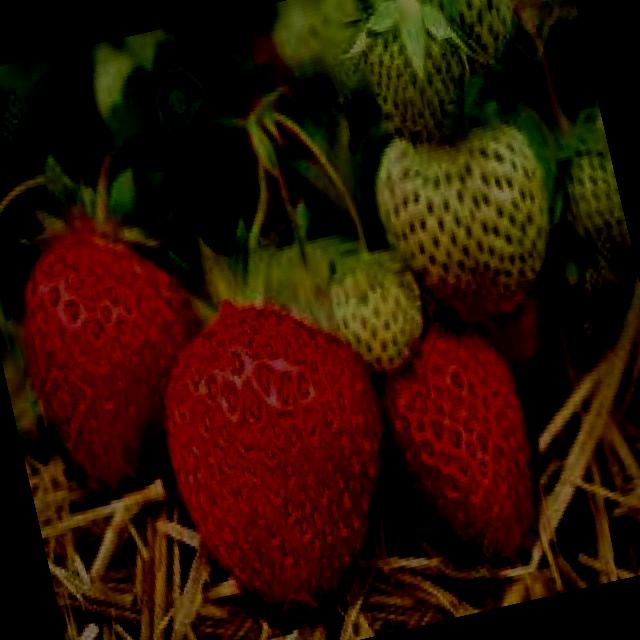Strawberry: (142, 280, 420, 630), (5, 214, 232, 500), (362, 315, 557, 581), (364, 108, 574, 336), (360, 1, 478, 144), (322, 243, 436, 384), (546, 106, 634, 268), (400, 0, 527, 82)
